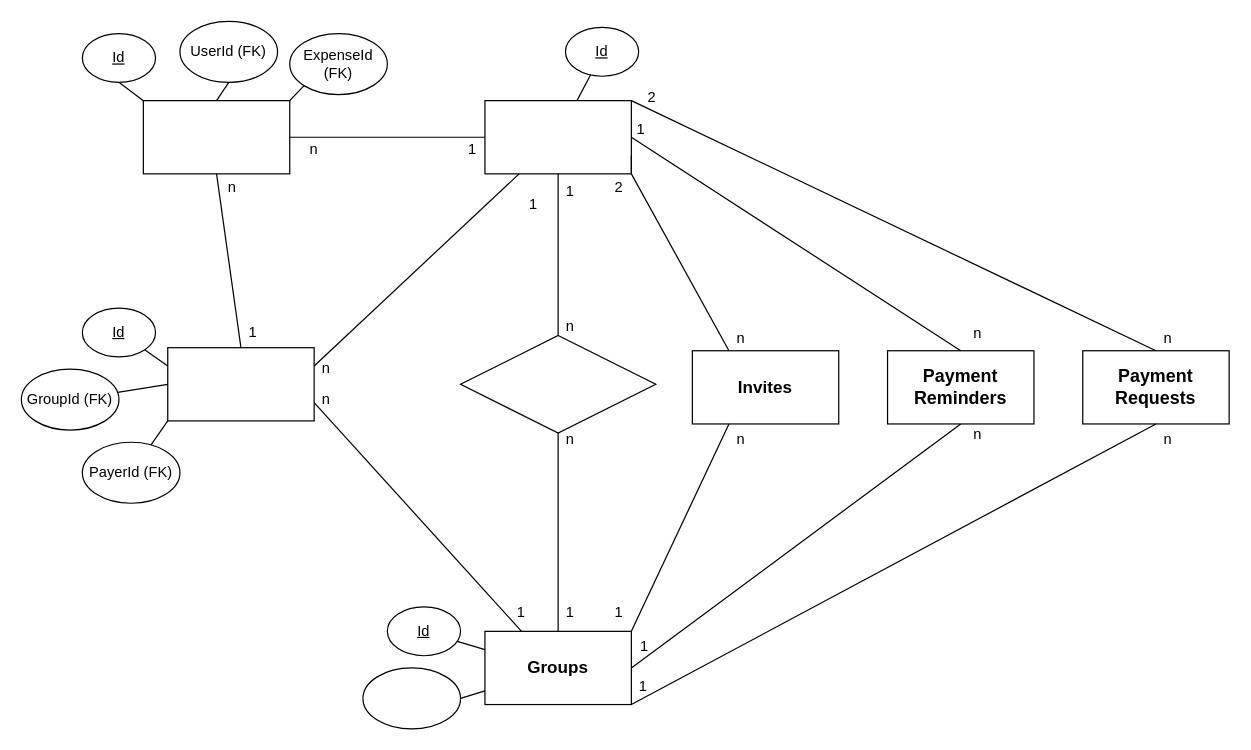
Some shapes in this 1251 by 750 pixel diagram are drawn without their labels. Each missing label, with the centre of its shape:
"AdminId (FK)" belongs at point (411, 698).
"Expenses" belongs at point (240, 383).
"ExpenseSplits" belongs at point (216, 136).
"GroupUser" belongs at point (557, 383).
"Users" belongs at point (557, 136).
